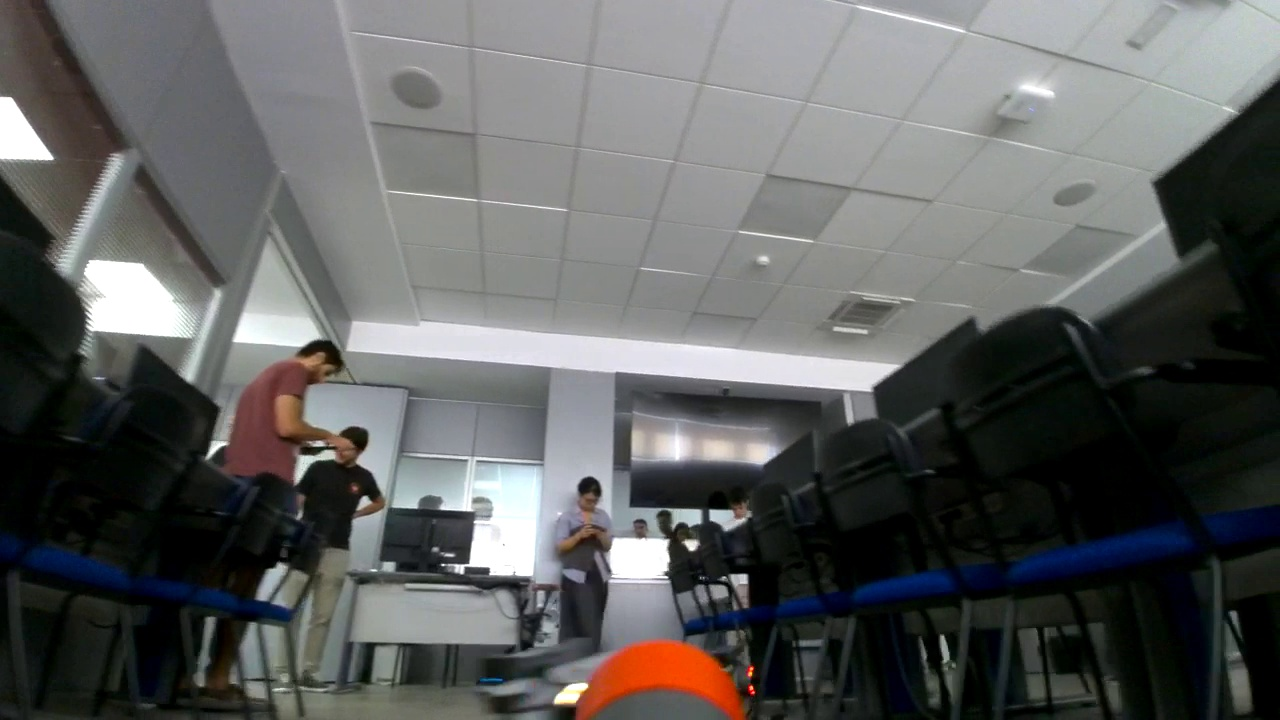robot: (473, 638, 623, 720), (704, 629, 755, 720)
